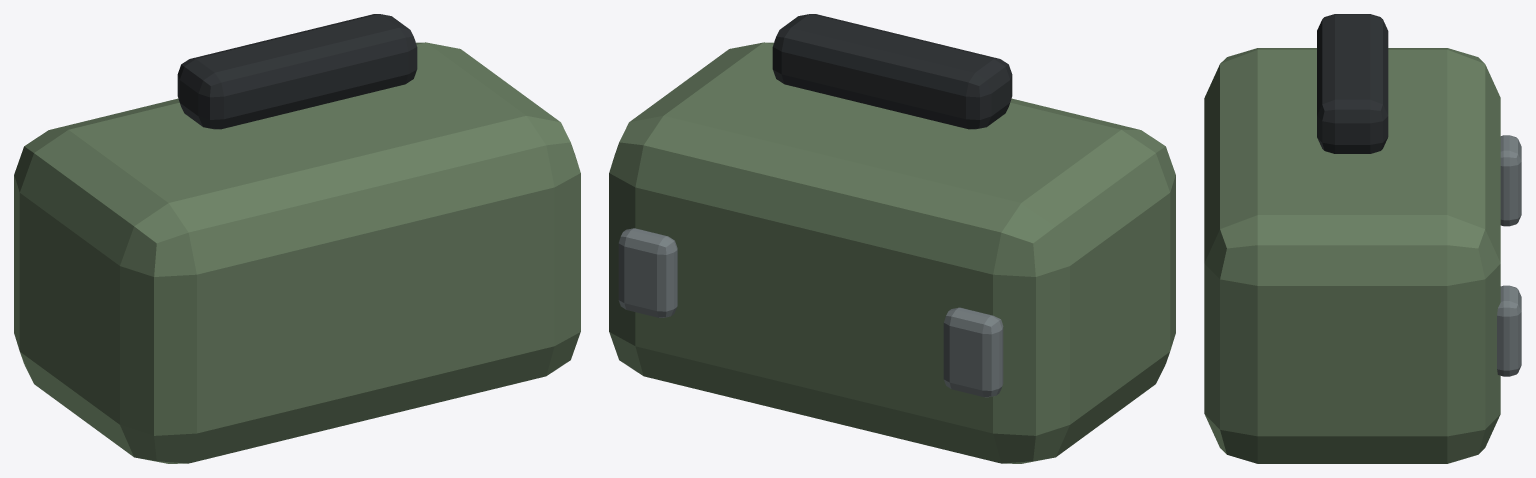
File: SM_ServiceCase.glb
3 renders of one model, left to right at view 1: azimuth 30°, elevation 25°; view 2: azimuth 150°, elevation 25°; view 3: azimuth 270°, elevation 25°, orthographic. The views are drawn at different scales.
Parts seen in each view (by area): view 1: SM_ServiceCase; view 2: SM_ServiceCase; view 3: SM_ServiceCase.
Boxes of the visible parts, x1=… form: SM_ServiceCase: x1=14, y1=14, x2=580, y2=463; SM_ServiceCase: x1=609, y1=14, x2=1175, y2=463; SM_ServiceCase: x1=1204, y1=14, x2=1521, y2=463.
Bounding box in the file's own units: 0.42 × 0.3 × 0.2675.
